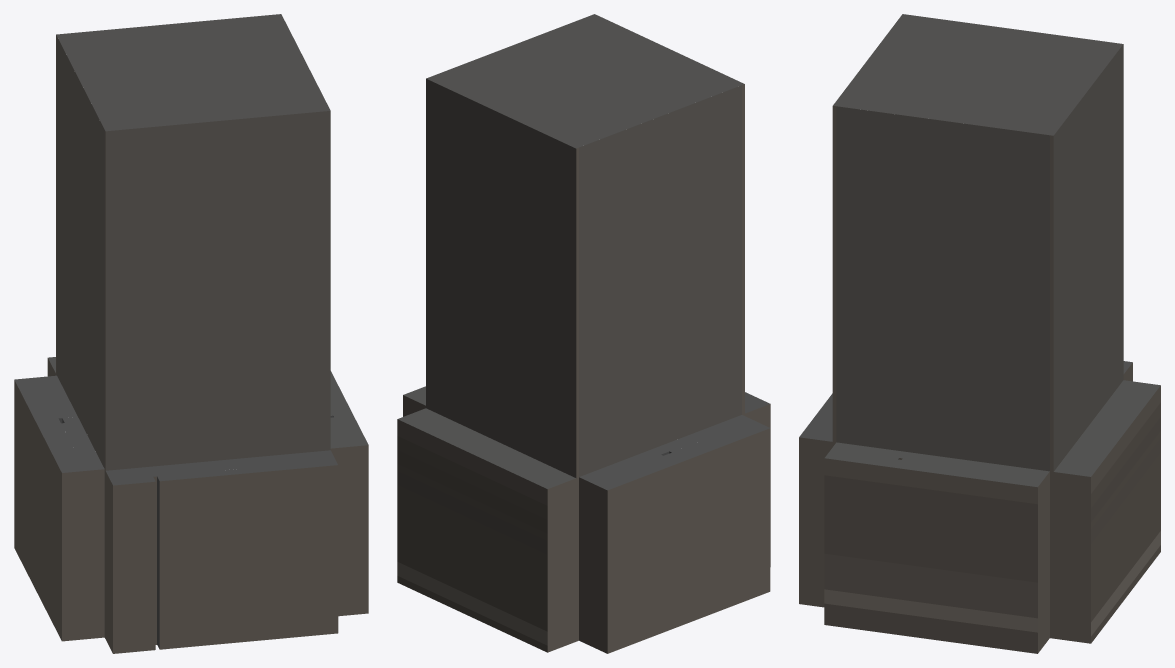
The model's file is t_-2_5.far.glb.
3 renders of one model, left to right at view 1: azimuth 30°, elevation 25°; view 2: azimuth 150°, elevation 25°; view 3: azimuth 270°, elevation 25°, orthographic. The views are drawn at different scales.
Visible parts, largest first — view 1: opaque; view 2: opaque; view 3: opaque.
Boxes of the visible parts, x1,y1,x2,y2 form: opaque: (14,14,368,653); opaque: (397,14,770,653); opaque: (799,14,1160,653).
Size of the model in its own units: 46.33 by 70.54 by 46.
Materials: 1 (1 with a texture image).
